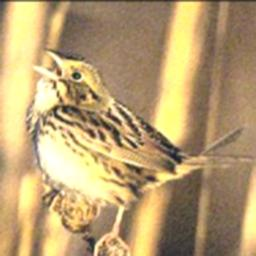Sparrow: (28, 46, 256, 256)
